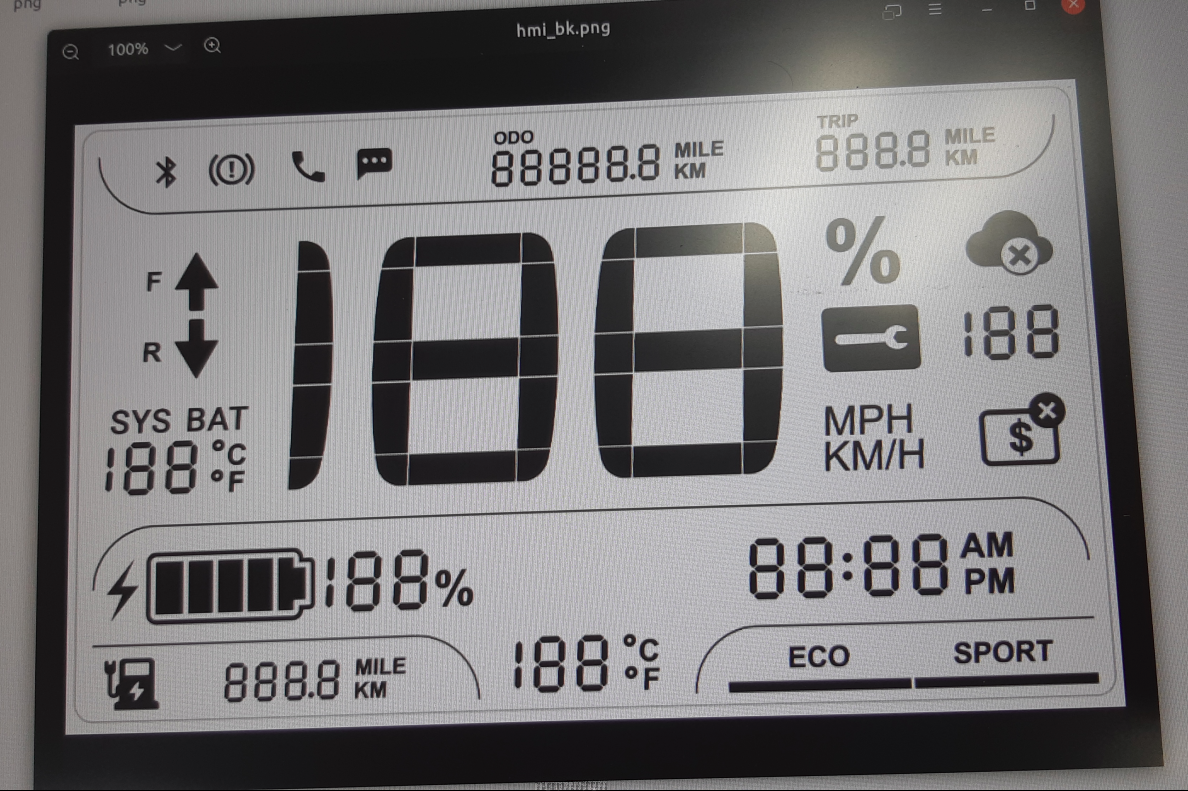bluetooth_on: (150, 152, 184, 192)
braking_on: (203, 150, 260, 189)
calling_on: (287, 147, 329, 185)
connection_lost: (962, 207, 1059, 279)
error_code: (816, 301, 925, 375)
low_battery: (98, 651, 166, 714)
sms_on: (349, 143, 398, 184)
vin_id: (974, 389, 1068, 467)
